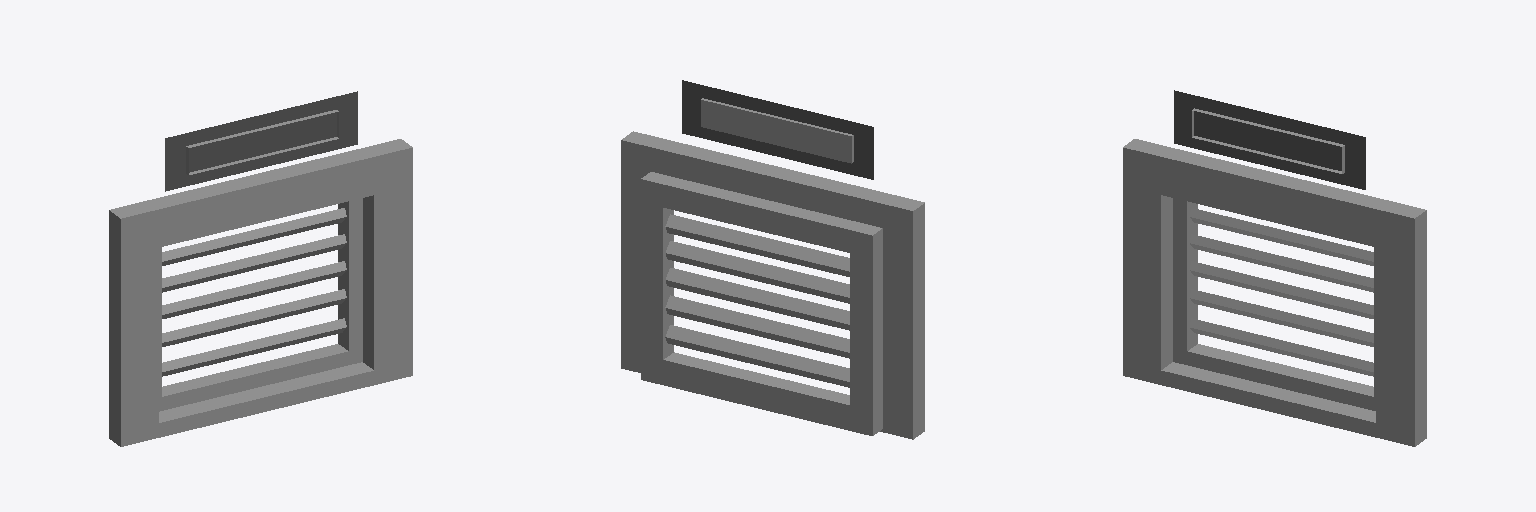
Rendered from Door-Vent.obj.
The picture shows the model from 3 angles: view 1: azimuth 30°, elevation 25°; view 2: azimuth 150°, elevation 25°; view 3: azimuth 330°, elevation 25°; orthographic projection.
Parts seen in each view (by area): view 1: Cube.156_Cube.220, Cube.155_Cube.219, Cube.154_Cube.218, Cube.153_Cube.217; view 2: Cube.155_Cube.219, Cube.156_Cube.220, Cube.154_Cube.218, Cube.153_Cube.217; view 3: Cube.156_Cube.220, Cube.155_Cube.219, Cube.154_Cube.218, Cube.153_Cube.217.
Boxes of the visible parts, <box> form: Cube.156_Cube.220: <box>109,139,412,446</box>; Cube.155_Cube.219: <box>159,198,362,411</box>; Cube.154_Cube.218: <box>165,91,357,191</box>; Cube.153_Cube.217: <box>186,110,338,174</box>; Cube.155_Cube.219: <box>641,172,882,435</box>; Cube.156_Cube.220: <box>621,131,924,439</box>; Cube.154_Cube.218: <box>682,80,873,179</box>; Cube.153_Cube.217: <box>701,98,853,163</box>; Cube.156_Cube.220: <box>1123,139,1426,446</box>; Cube.155_Cube.219: <box>1173,198,1375,410</box>; Cube.154_Cube.218: <box>1174,90,1365,189</box>; Cube.153_Cube.217: <box>1192,108,1344,173</box>.
Size of the model in its own units: 2.05 by 1.98 by 0.2691.